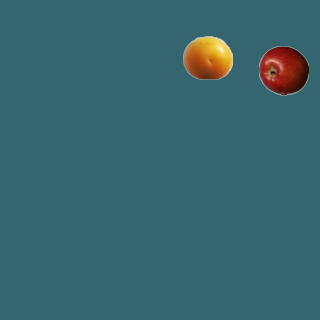Apple Braeburn: (258, 45, 308, 95)
Cherry Wax Yellow: (182, 32, 232, 82)
